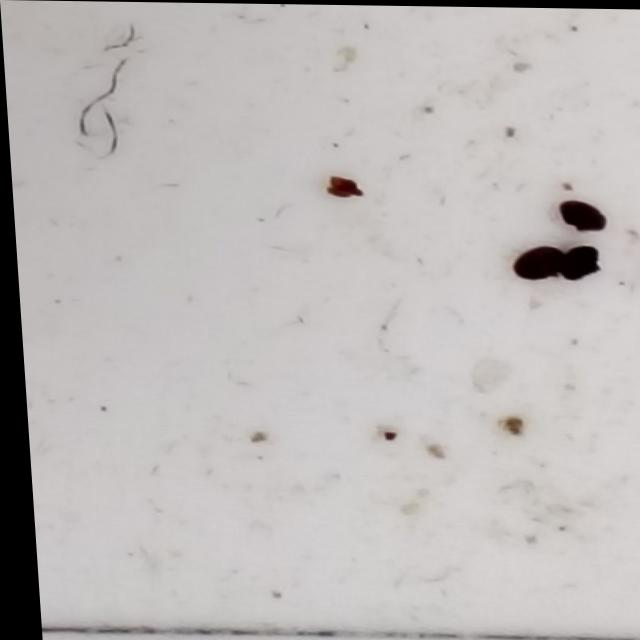varroa: (553, 244, 603, 284), (507, 246, 564, 281), (558, 195, 605, 232)
